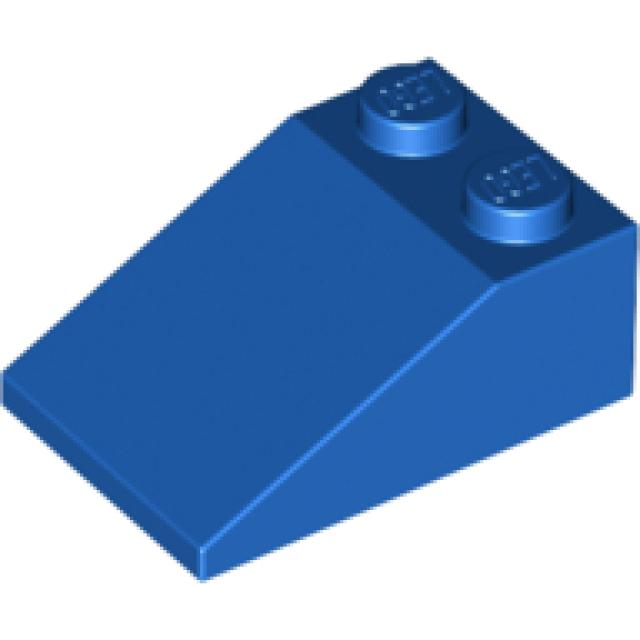Blue_Small: (0, 57, 637, 583)
